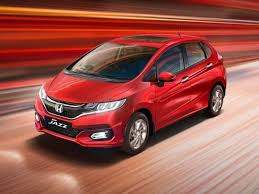Honda: (35, 37, 228, 152)
